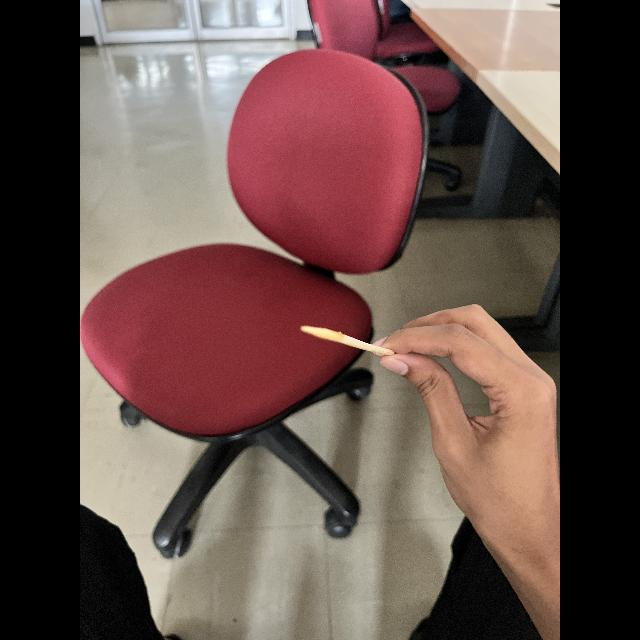stick: (298, 324, 388, 356)
